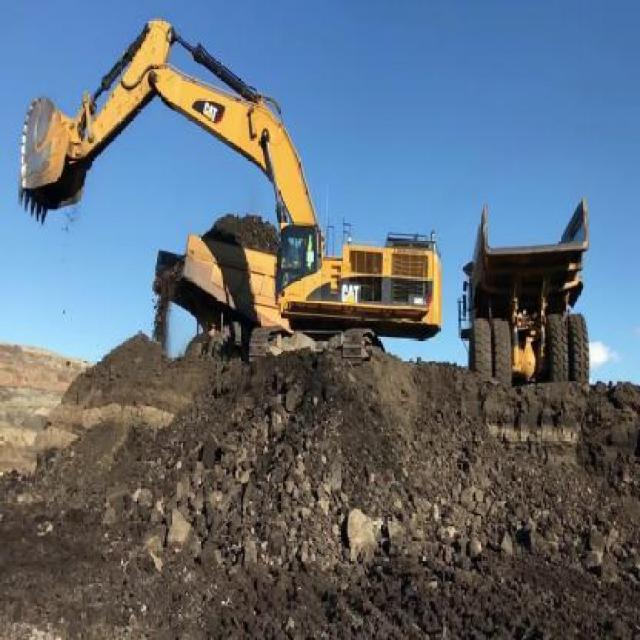Dump Truck: (457, 189, 594, 389), (146, 212, 282, 358)
Excavator: (16, 19, 442, 366)
